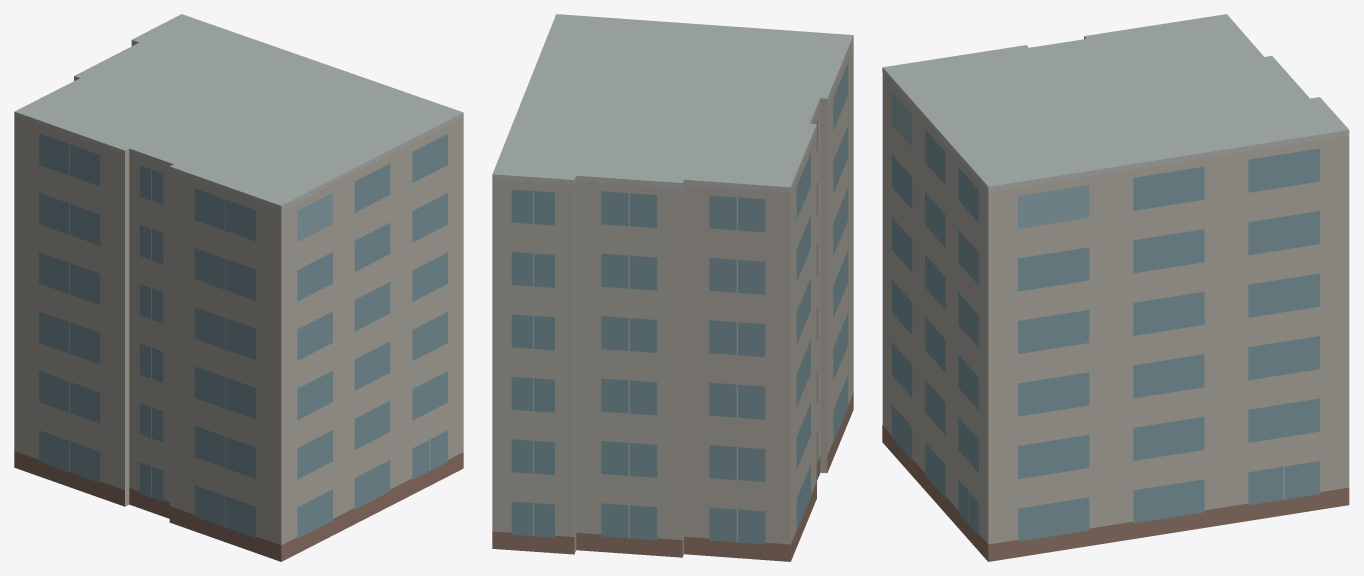
File: survey-upis-32844766.glb
The picture shows the model from 3 angles, left to right: view 1: azimuth 30°, elevation 25°; view 2: azimuth 150°, elevation 25°; view 3: azimuth 270°, elevation 25°; orthographic projection. The views are drawn at different scales.
Visible parts, largest first — view 1: survey-upis-32844766.tmp; view 2: survey-upis-32844766.tmp; view 3: survey-upis-32844766.tmp.
Part boxes in pixels (bbox=[...]): survey-upis-32844766.tmp: bbox=[14, 14, 463, 561]; survey-upis-32844766.tmp: bbox=[492, 14, 853, 561]; survey-upis-32844766.tmp: bbox=[882, 14, 1349, 561].
Bounding box in the file's own units: 17.4 × 17.6 × 19.86.
